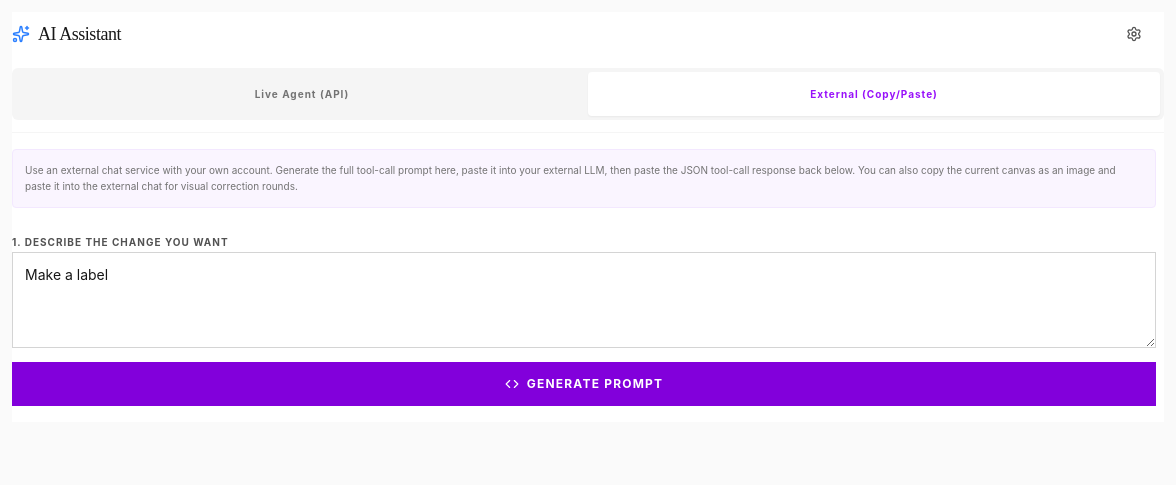
Test: an empty first external prompt shows its error before a response field exists
This screenshot has width=1176, height=485.
Click the button "Generate Prompt".
click(584, 384)  # box [12,362,1156,406]
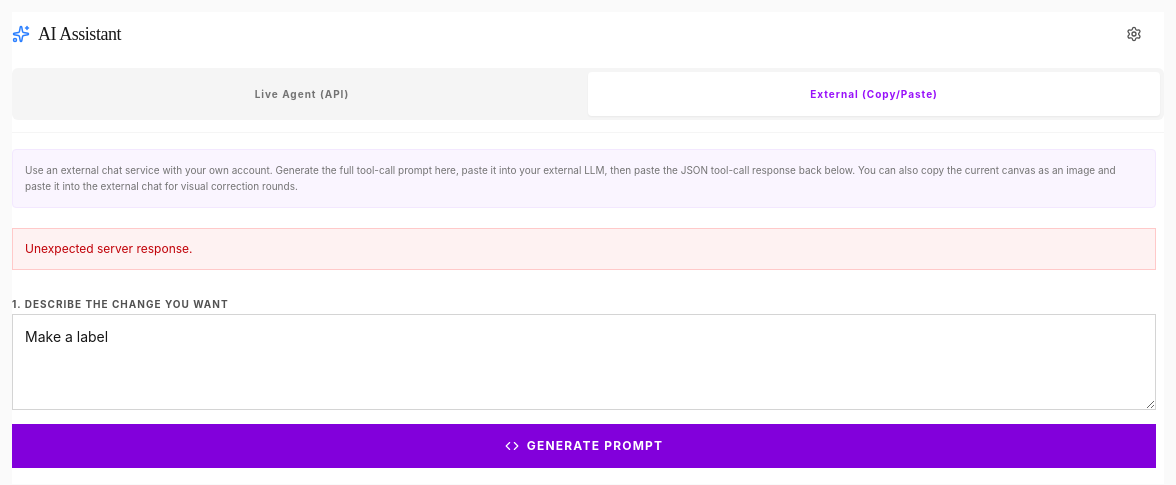
Now the message "Unexpected server response." is shown, box [12,228,1156,270]
